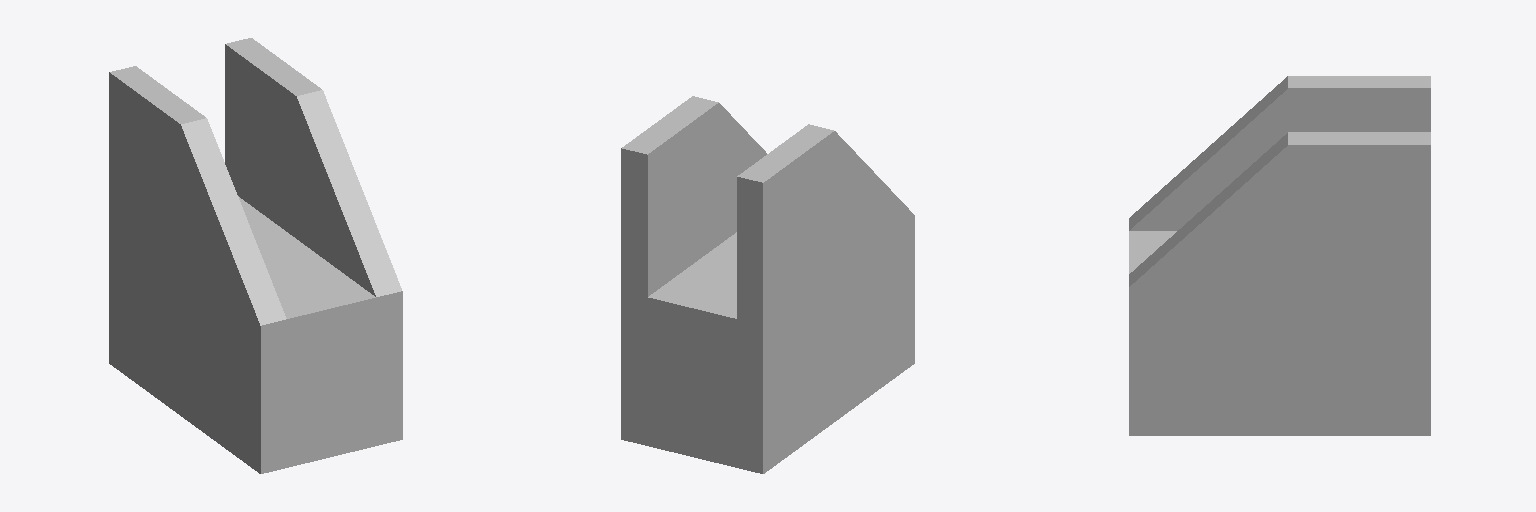
The model's file is Iron_Sight_Rear.obj.
The picture shows the model from 3 angles: view 1: azimuth 30°, elevation 25°; view 2: azimuth 150°, elevation 25°; view 3: azimuth 270°, elevation 25°; orthographic projection.
Visible parts, largest first — view 1: Iron_Sight_Rear_Cube.034; view 2: Iron_Sight_Rear_Cube.034; view 3: Iron_Sight_Rear_Cube.034.
Boxes of the visible parts, x1,y1,x2,y2 form: Iron_Sight_Rear_Cube.034: [109, 38, 402, 473]; Iron_Sight_Rear_Cube.034: [621, 96, 914, 473]; Iron_Sight_Rear_Cube.034: [1129, 76, 1430, 435].
Bounding box in the file's own units: 0.0225 × 0.044 × 0.0414.